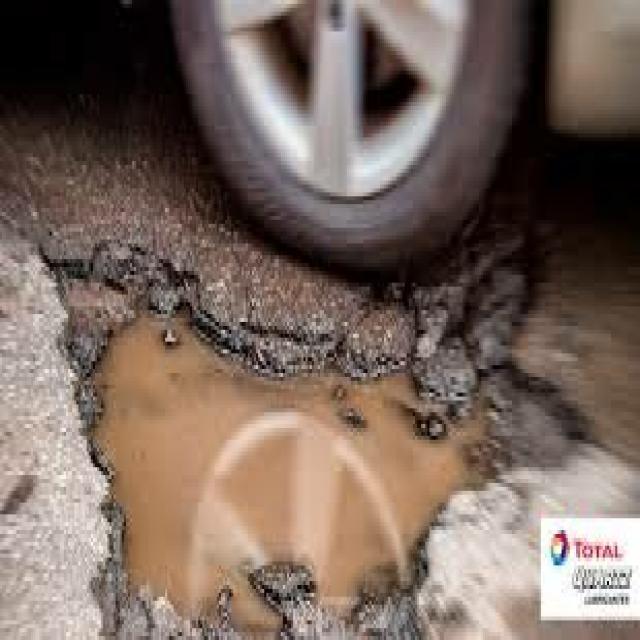Pothole: (23, 196, 603, 640)
